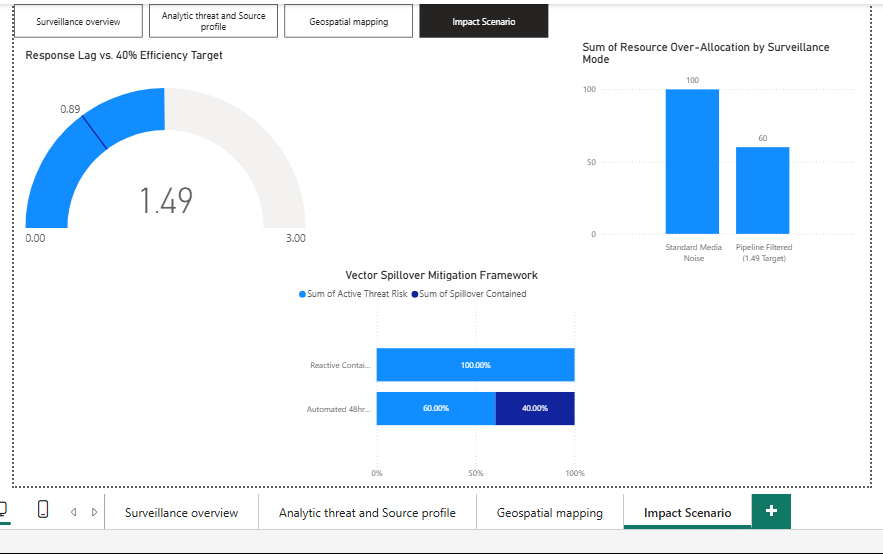

What the dashboard file says about the page in this screenshot:
{"tool":"powerbi","page":{"name":"Impact Scenario","canvas":[1280,720],"ordinal":3},"visuals":[{"type":"gauge","fields":{"Y":["Avg(Query1.Alert Level)"]},"box":[37.3,17.9,439.2,342.1],"z":0},{"type":"clusteredColumnChart","fields":{"Category":["Surveillance Resource Impact.Surveillance Mode"],"Y":["Sum(Surveillance Resource Impact.Resource Over-Allocation)"]},"box":[779.8,19.4,433.2,340.6],"z":1000},{"type":"hundredPercentStackedBarChart","title":"Vector Spillover Mitigation Framework","fields":{"Category":["Transmission Containment Impact.Containment Ring"],"Y":["Sum(Transmission Containment Impact.Active Threat Risk)","Sum(Transmission Containment Impact.Spillover Contained)"]},"box":[369,360,439.2,342.1],"z":2000}]}

Visuals, with their boxes on the page's 1280x720 design canvas (x1, y1, x2, y2). These are canvas units, not pixel positions in the 883x554 screenshot, which may show the page scaled, cropped or inside an application window:
gauge - Avg(Query1.Alert Level): (37,18,476,360)
clusteredColumnChart - Surveillance Resource Impact.Surveillance Mode x Sum(Surveillance Resource Impact.Resource Over-Allocation): (780,19,1213,360)
"Vector Spillover Mitigation Framework" hundredPercentStackedBarChart: (369,360,808,702)
